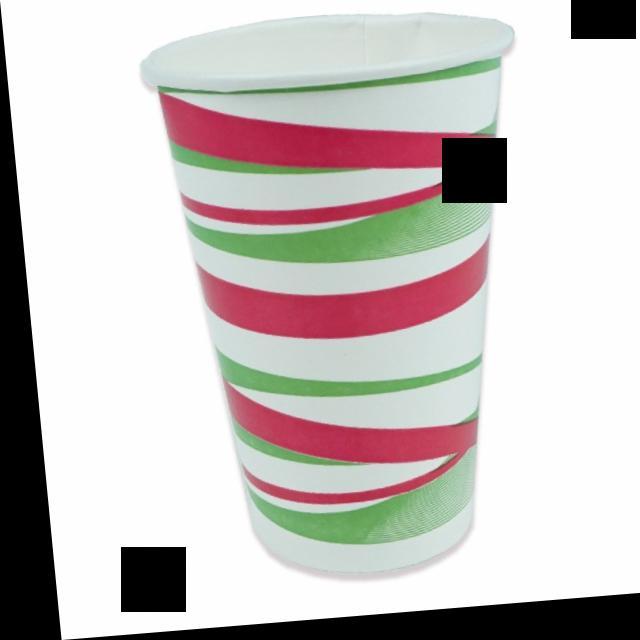karton-bardak: (115, 0, 552, 596)
